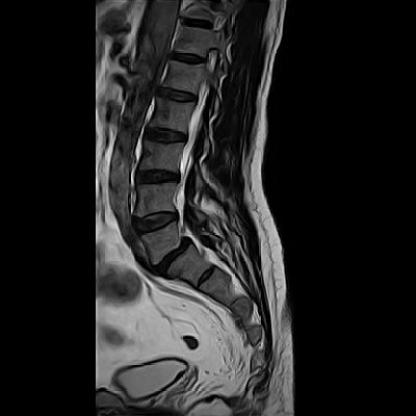Disc Bulgerotation: (149, 244, 199, 270), (132, 208, 179, 233), (133, 167, 181, 188)
